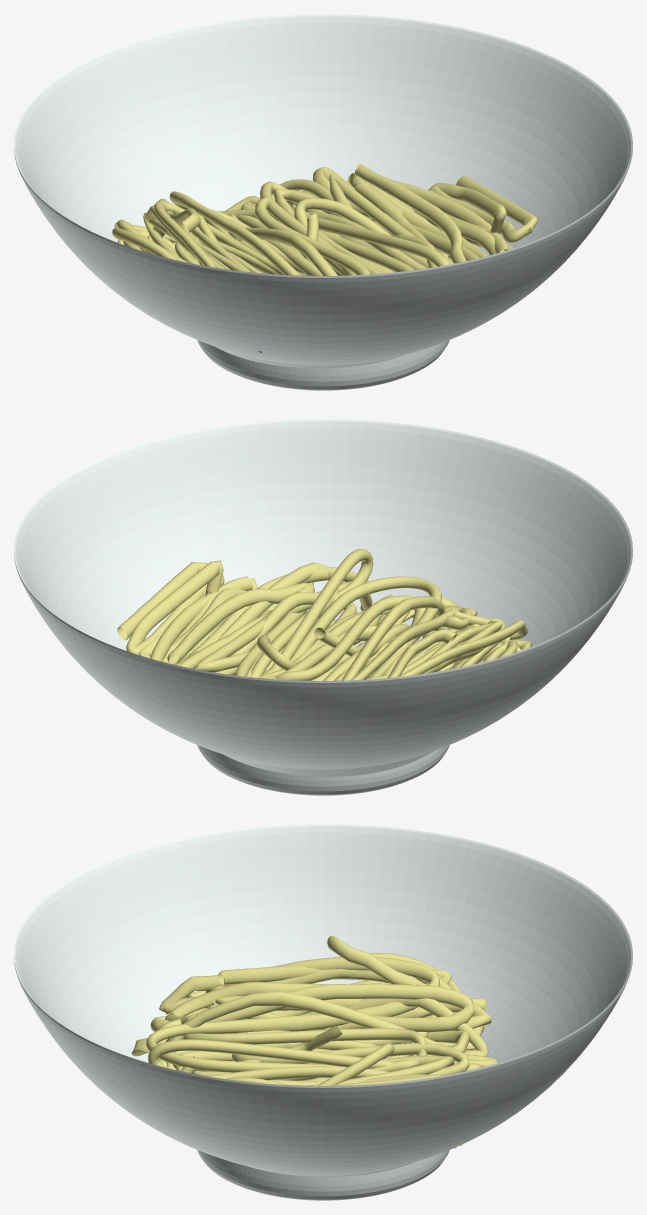
File: Noodle.fbx
3 renders of one model, top to bottom at view 1: azimuth 30°, elevation 25°; view 2: azimuth 150°, elevation 25°; view 3: azimuth 270°, elevation 25°, orthographic.
Parts seen in each view (by area): view 1: 원형.056; view 2: 원형.056; view 3: 원형.056.
Boxes of the visible parts, left/top/right/bottom form: 원형.056: left=14, top=14, right=632, bottom=390; 원형.056: left=14, top=419, right=632, bottom=795; 원형.056: left=14, top=824, right=632, bottom=1200.
Size of the model in its own units: 181 by 63.38 by 181.
